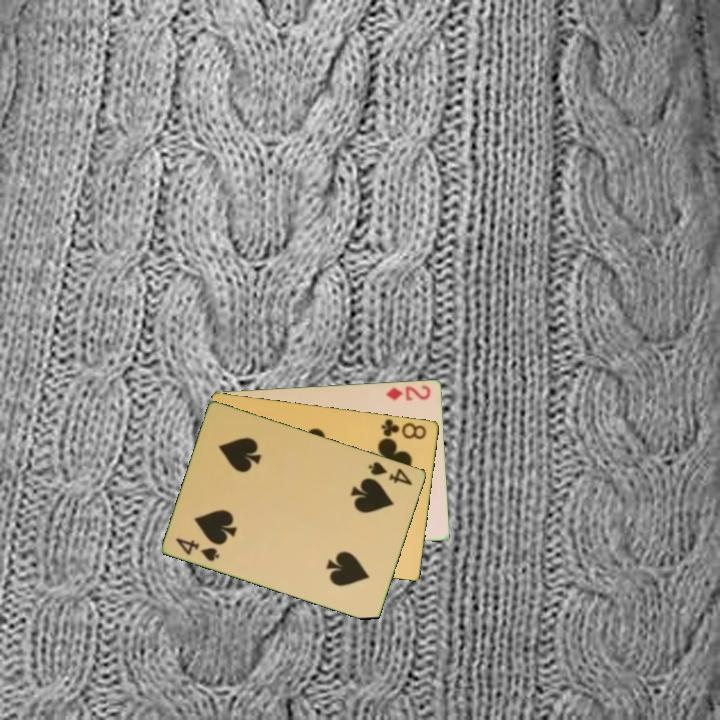2d: (382, 381, 433, 403)
4s: (365, 458, 416, 488), (173, 534, 223, 564)
8c: (378, 415, 430, 442)
